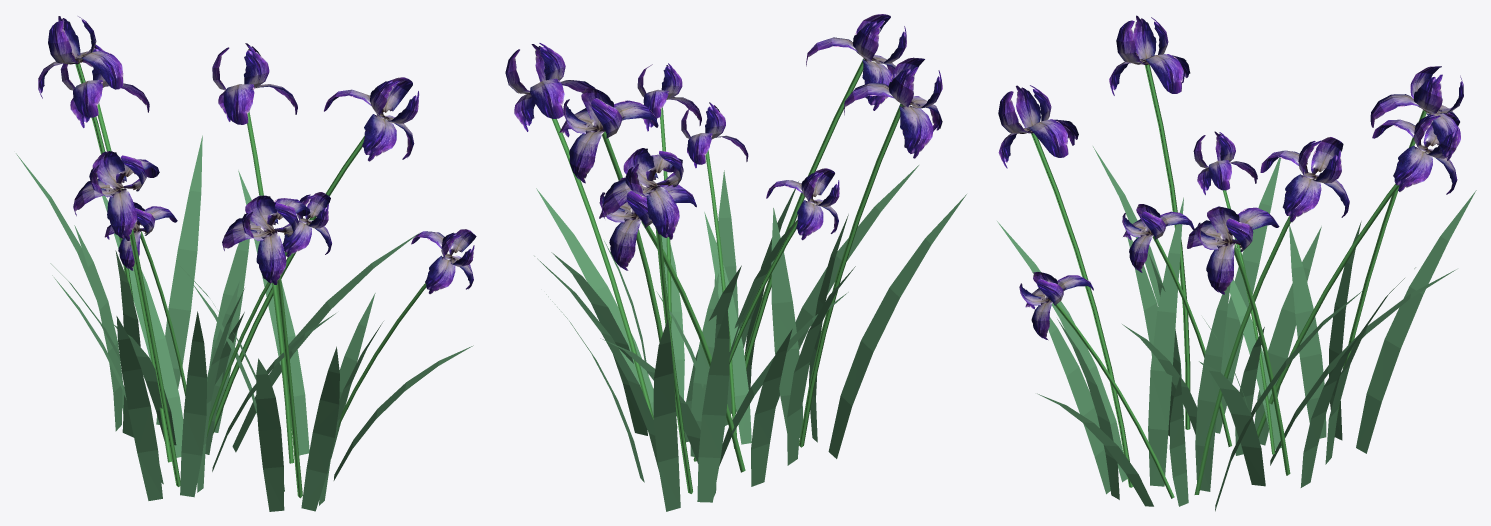
The model's file is iris_bunch.fbx.
3 views of the same model, side by side, from view 1: azimuth 30°, elevation 25°; view 2: azimuth 150°, elevation 25°; view 3: azimuth 270°, elevation 25° (orthographic). The views are drawn at different scales.
Visible parts, largest first — view 1: iris_leaves, iris_flowers; view 2: iris_leaves, iris_flowers; view 3: iris_leaves, iris_flowers.
Part boxes in pixels (bbox=[...]): iris_leaves: bbox=[16, 63, 473, 511]; iris_flowers: bbox=[38, 16, 476, 294]; iris_leaves: bbox=[534, 59, 966, 511]; iris_flowers: bbox=[505, 14, 942, 270]; iris_leaves: bbox=[997, 64, 1476, 511]; iris_flowers: bbox=[998, 15, 1463, 340].
Bounding box in the file's own units: 0.5444 × 0.5499 × 0.6173.
Materials: 3 (1 with a texture image).
